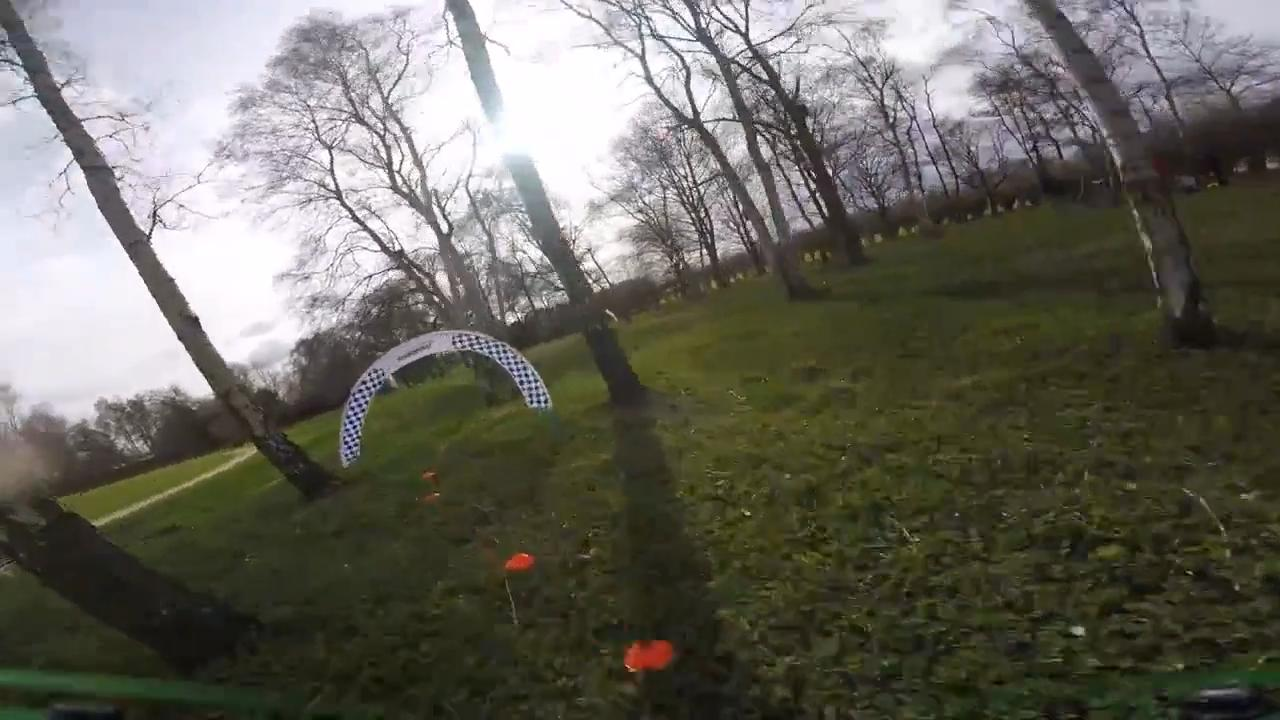gate: (335, 329, 554, 466)
